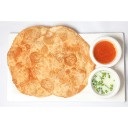poori: (31, 25, 90, 95), (11, 27, 34, 94)
